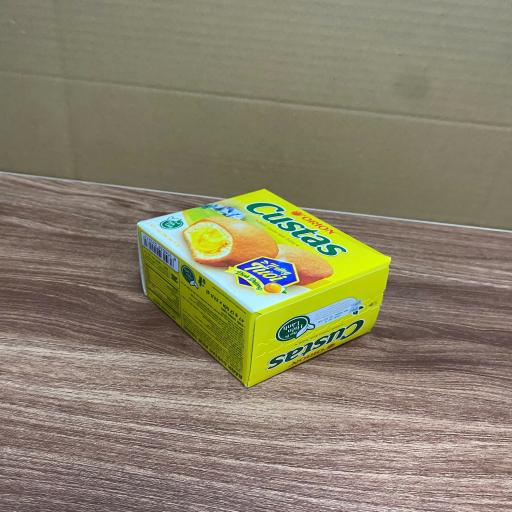custas: (136, 188, 391, 389)
